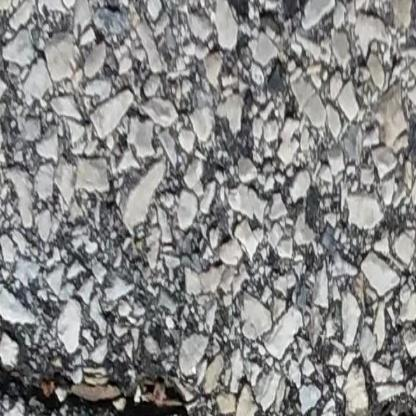Cracks: (0, 340, 199, 416), (336, 379, 416, 416)
